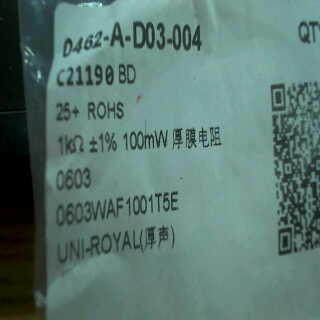1kR: (53, 130, 85, 160)
